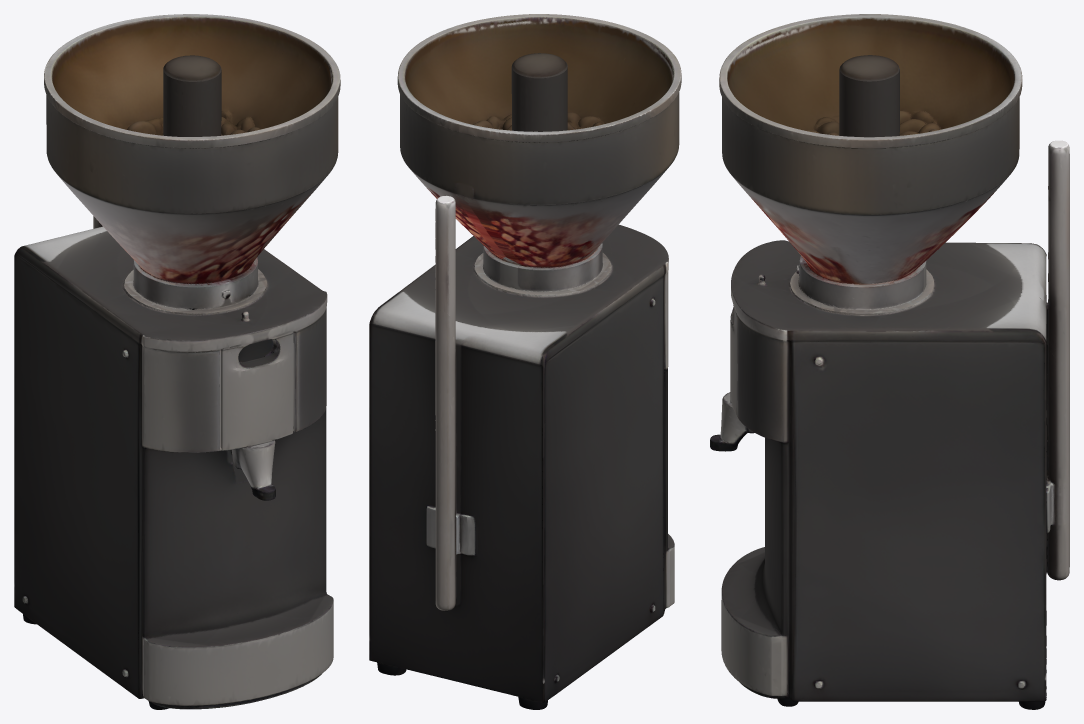
File: coffee-grinder.glb
3 renders of one model, left to right at view 1: azimuth 30°, elevation 25°; view 2: azimuth 150°, elevation 25°; view 3: azimuth 270°, elevation 25°, orthographic. The views are drawn at different scales.
Parts seen in each view (by area): view 1: model; view 2: model; view 3: model.
Boxes of the visible parts, bbox=[...] form: model: bbox=[14, 14, 340, 709]; model: bbox=[369, 14, 681, 709]; model: bbox=[710, 14, 1069, 709].
Bounding box in the file's own units: 0.8538 × 1.9 × 1.03.
1 material, 1 textured.
